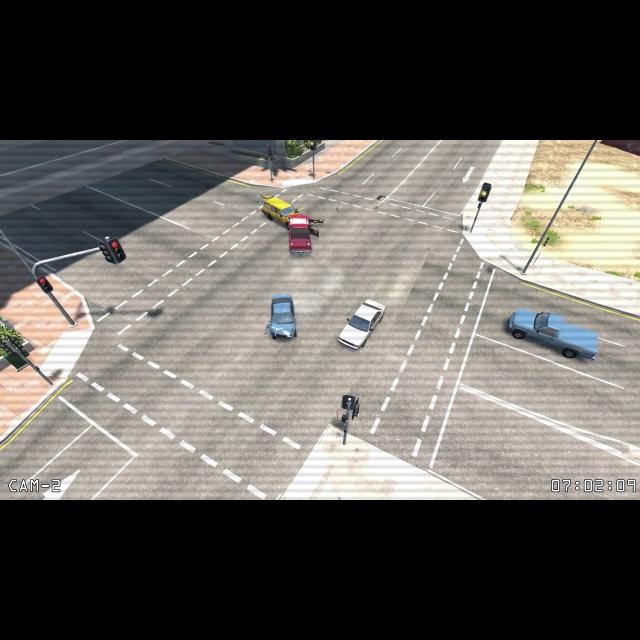accident: (259, 196, 327, 256)
